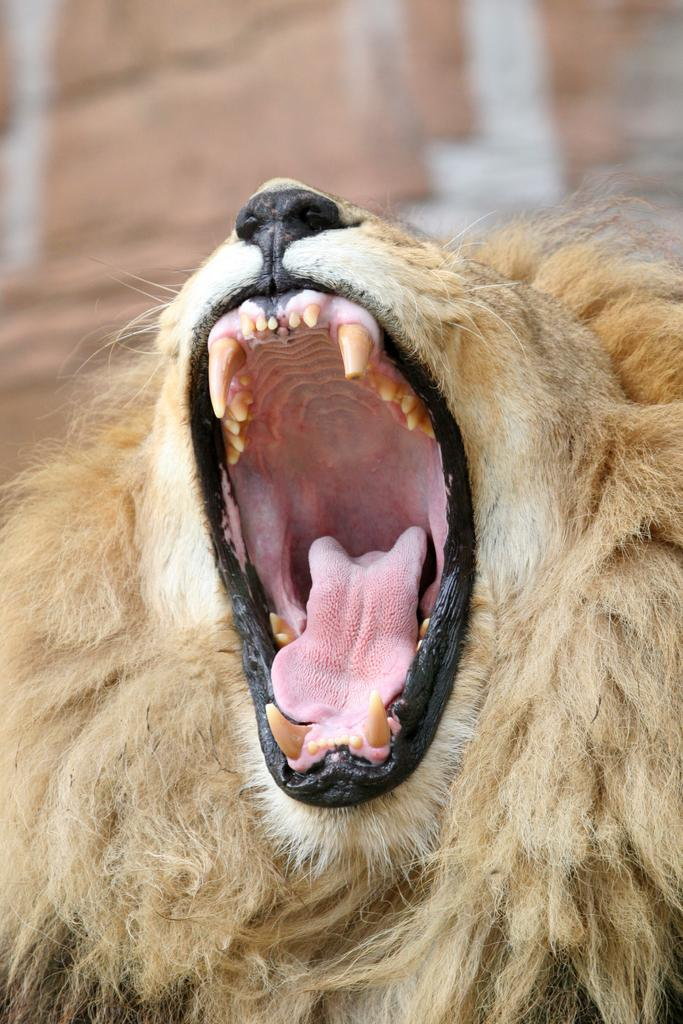lions: (7, 128, 675, 1024)
